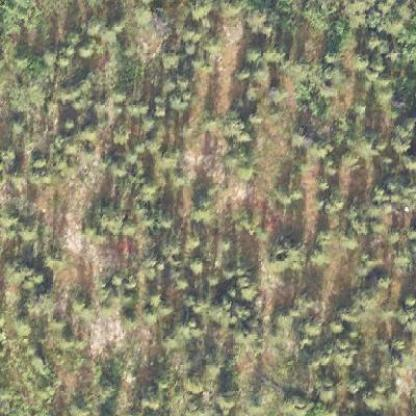tree-top: (263, 239, 291, 273), (96, 203, 122, 235), (337, 147, 362, 170), (222, 114, 242, 136), (238, 280, 259, 300), (232, 161, 252, 182), (340, 230, 358, 252), (242, 45, 261, 62)
